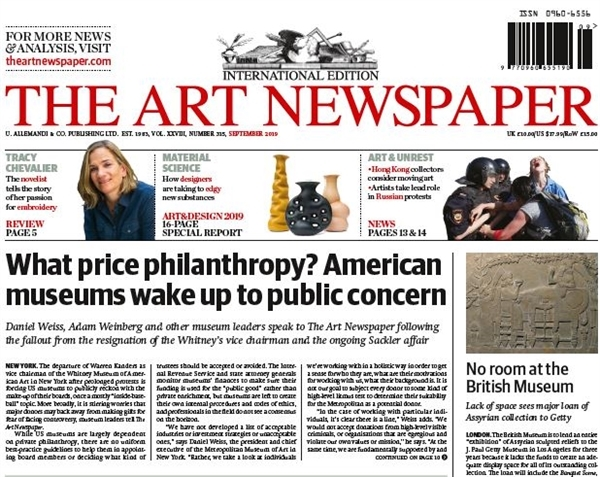news_paper: (1, 1, 600, 477)
